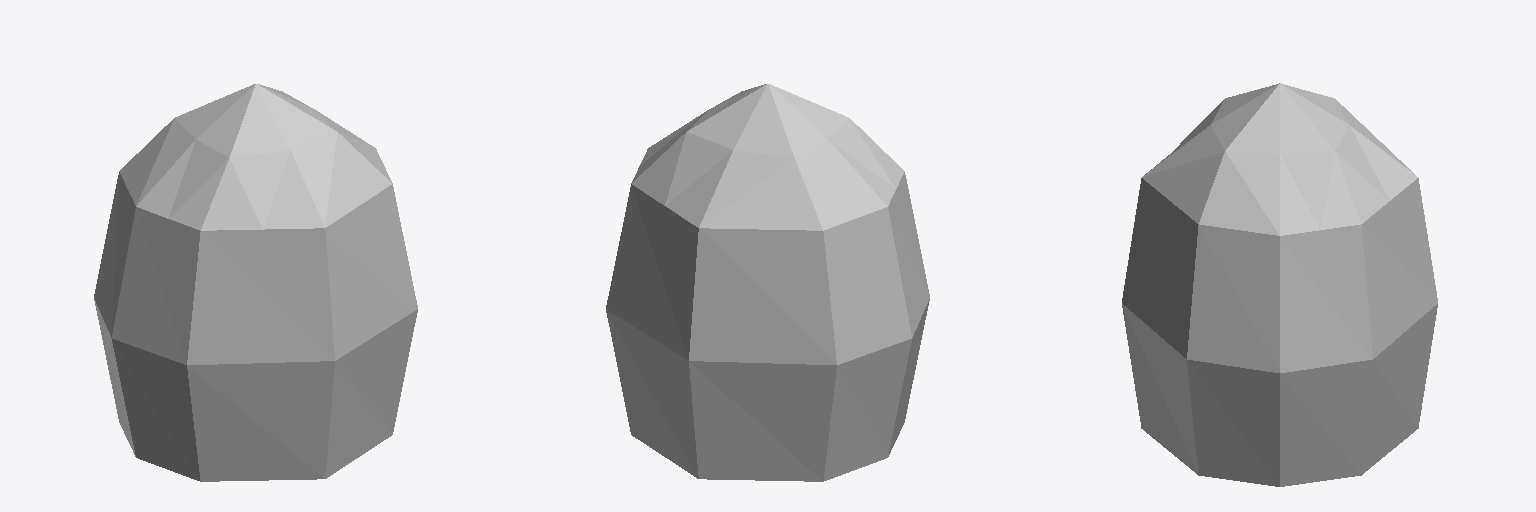
File: Crystal_House.obj
3 renders of one model, left to right at view 1: azimuth 30°, elevation 25°; view 2: azimuth 150°, elevation 25°; view 3: azimuth 270°, elevation 25°, orthographic.
Parts seen in each view (by area): view 1: Cube; view 2: Cube; view 3: Cube.
Part boxes in pixels (x1,y1,x2,y2): Cube: (94, 84, 417, 481); Cube: (606, 84, 929, 481); Cube: (1122, 83, 1437, 486).
Bounding box in the file's own units: 2.41 × 2.75 × 2.29.